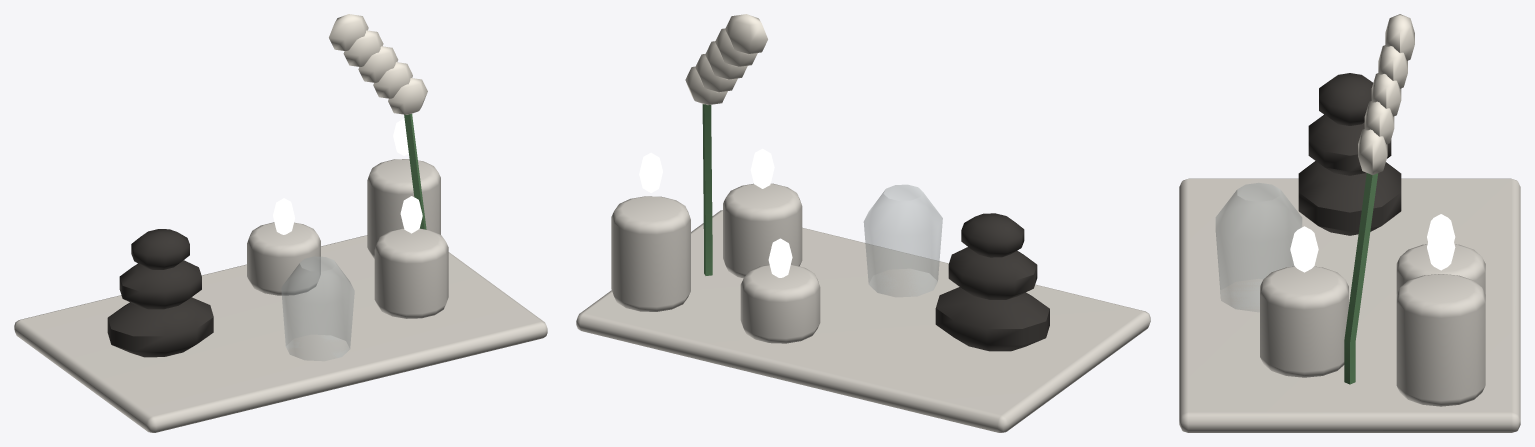
File: spa_decor_set.glb
3 views of the same model, side by side, from view 1: azimuth 30°, elevation 25°; view 2: azimuth 150°, elevation 25°; view 3: azimuth 270°, elevation 25° (orthographic). The views are drawn at different scales.
Parts seen in each view (by area): view 1: spa_decor_set; view 2: spa_decor_set; view 3: spa_decor_set.
Boxes of the visible parts, box(x1,y1,x2,y2) form: spa_decor_set: box(14, 14, 547, 432); spa_decor_set: box(576, 14, 1150, 432); spa_decor_set: box(1179, 14, 1520, 432).
Size of the model in its own units: 0.5 by 0.3425 by 0.3.
